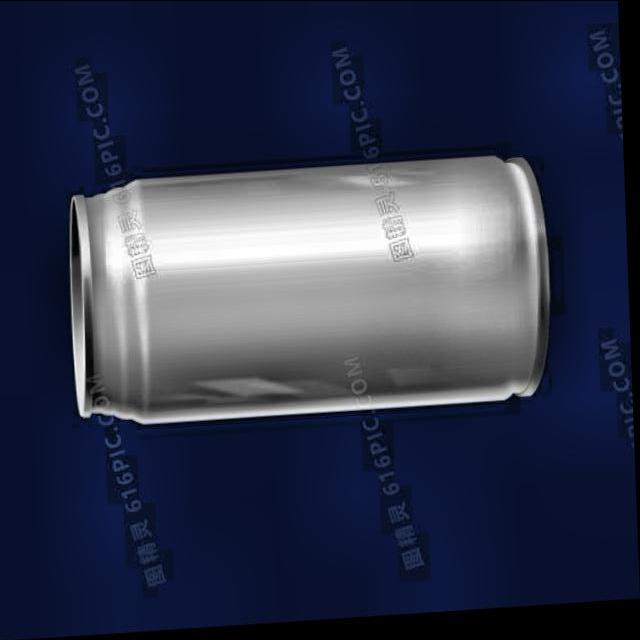Aluminum Can: (59, 152, 558, 442)
